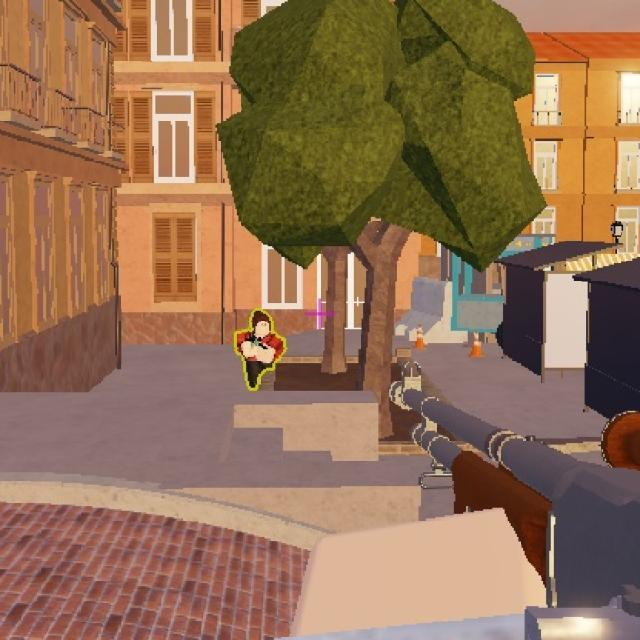player: (239, 298, 273, 390)
